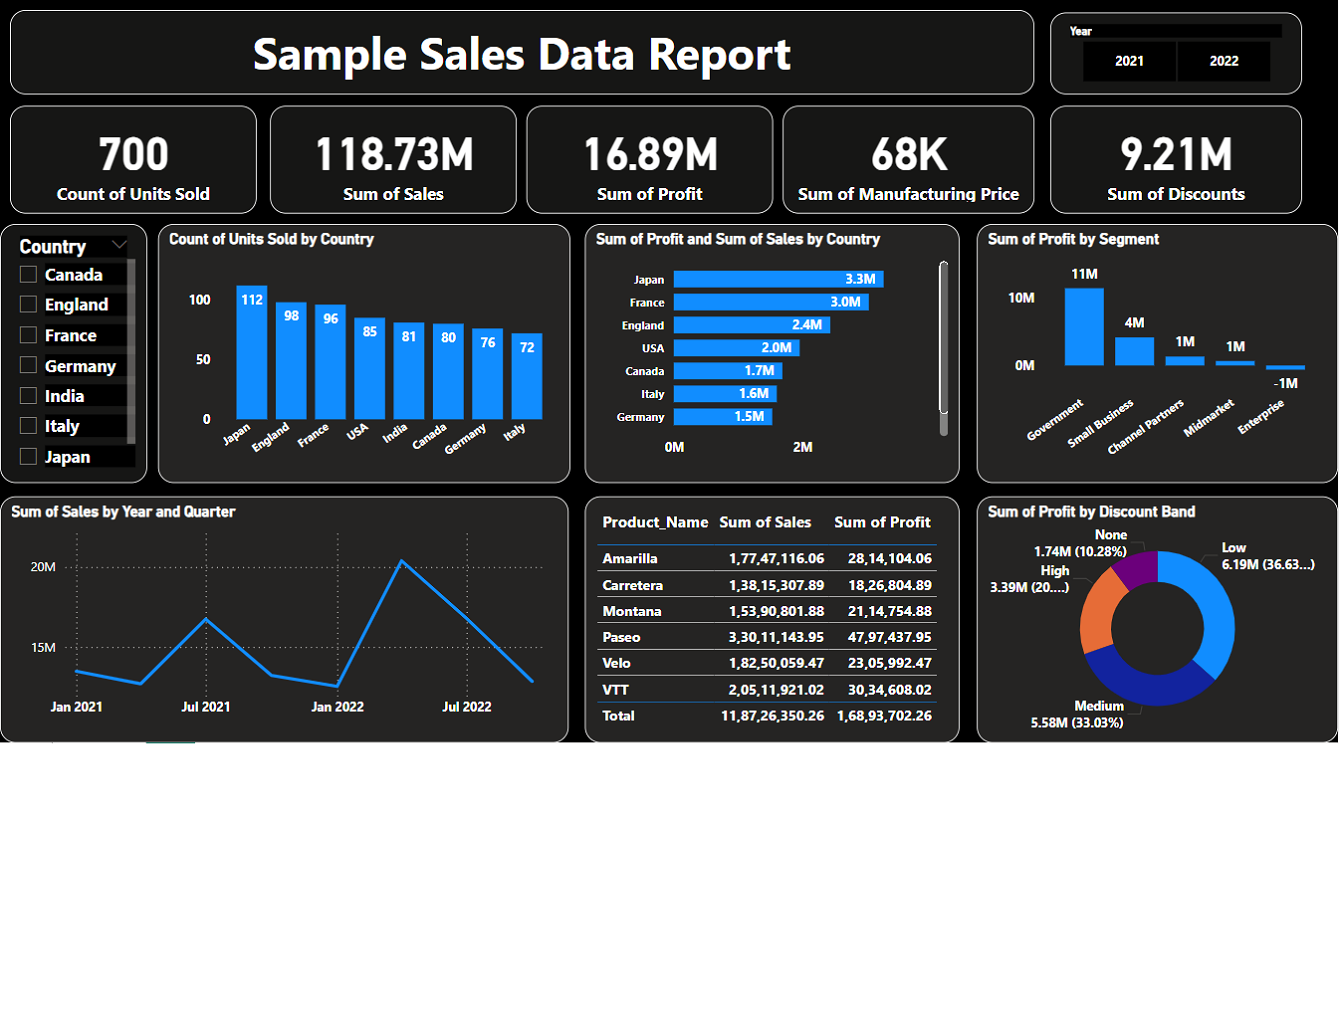

The page's visual inventory and layout, read from the dashboard file:
{"tool":"powerbi","page":{"name":"Page 1","canvas":[1280,720],"ordinal":0},"visuals":[{"type":"textbox","title":"Sample Sales Data Report","box":[9.5,19,979.8,81],"z":0},{"type":"donutChart","fields":{"Category":["Table3.Discount Band"],"Y":["Sum(Table3.Profit)"]},"box":[934.5,484.5,345.2,235.7],"z":1000},{"type":"columnChart","fields":{"Category":["Table3.Segment"],"Y":["Sum(Table3.Profit)"]},"box":[934.5,223.8,345.2,247.6],"z":2000},{"type":"lineChart","fields":{"Y":["Sum(Table3.Sales)"],"Category":["Table3.Date.Variation.Date Hierarchy.Year","Table3.Date.Variation.Date Hierarchy.Quarter","Table3.Date.Variation.Date Hierarchy.Month","Table3.Date.Variation.Date Hierarchy.Day"]},"box":[0,484.5,544.1,235.7],"z":3000},{"type":"clusteredColumnChart","fields":{"Y":["CountNonNull(Table3.Units Sold)"],"Category":["Table3.Country"]},"box":[151.2,223.8,394,247.6],"z":4000},{"type":"clusteredBarChart","fields":{"Category":["Table3.Country"],"Y":["Sum(Table3.Profit)"]},"box":[559.5,223.8,358.3,247.6],"z":5000},{"type":"tableEx","fields":{"Values":["Table3.Product_Name","Sum(Table3.Sales)","Sum(Table3.Profit)"]},"box":[559.5,484.5,358.3,235.7],"z":6000},{"type":"slicer","fields":{"Values":["Table3.Country"]},"box":[0,223.8,140.5,247.6],"z":7000},{"type":"card","fields":{"Values":["CountNonNull(Table3.Units Sold)"]},"box":[9.5,110.7,235.7,103.6],"z":7001},{"type":"card","fields":{"Values":["Sum(Table3.Sales)"]},"box":[258.3,110.7,235.7,103.6],"z":7002},{"type":"card","fields":{"Values":["Sum(Table3.Profit)"]},"box":[503.6,110.7,235.7,103.6],"z":7003},{"type":"card","fields":{"Values":["Sum(Table3.Manufacturing Price)"]},"box":[748.8,110.7,240.5,103.6],"z":7004},{"type":"card","fields":{"Values":["Sum(Table3.Discounts)"]},"box":[1004.8,110.7,240.5,103.6],"z":7005},{"type":"slicer","fields":{"Values":["Table3.Year"]},"box":[1004.8,21.4,240.5,78.6],"z":7006}]}

Visuals, with their boxes on the page's 1280x720 design canvas (x1, y1, x2, y2). These are canvas units, not pixel positions in the 1340x1027 screenshot, which may show the page scaled, cropped or inside an application window:
"Sample Sales Data Report" textbox: [left=10, top=19, right=989, bottom=100]
donutChart - Table3.Discount Band x Sum(Table3.Profit): [left=934, top=484, right=1280, bottom=720]
columnChart - Table3.Segment x Sum(Table3.Profit): [left=934, top=224, right=1280, bottom=471]
lineChart - Sum(Table3.Sales) x Table3.Date.Variation.Date Hierarchy.Year: [left=0, top=484, right=544, bottom=720]
clusteredColumnChart - CountNonNull(Table3.Units Sold) x Table3.Country: [left=151, top=224, right=545, bottom=471]
clusteredBarChart - Table3.Country x Sum(Table3.Profit): [left=560, top=224, right=918, bottom=471]
tableEx - Table3.Product_Name x Sum(Table3.Sales): [left=560, top=484, right=918, bottom=720]
slicer - Table3.Country: [left=0, top=224, right=140, bottom=471]
card - CountNonNull(Table3.Units Sold): [left=10, top=111, right=245, bottom=214]
card - Sum(Table3.Sales): [left=258, top=111, right=494, bottom=214]
card - Sum(Table3.Profit): [left=504, top=111, right=739, bottom=214]
card - Sum(Table3.Manufacturing Price): [left=749, top=111, right=989, bottom=214]
card - Sum(Table3.Discounts): [left=1005, top=111, right=1245, bottom=214]
slicer - Table3.Year: [left=1005, top=21, right=1245, bottom=100]
